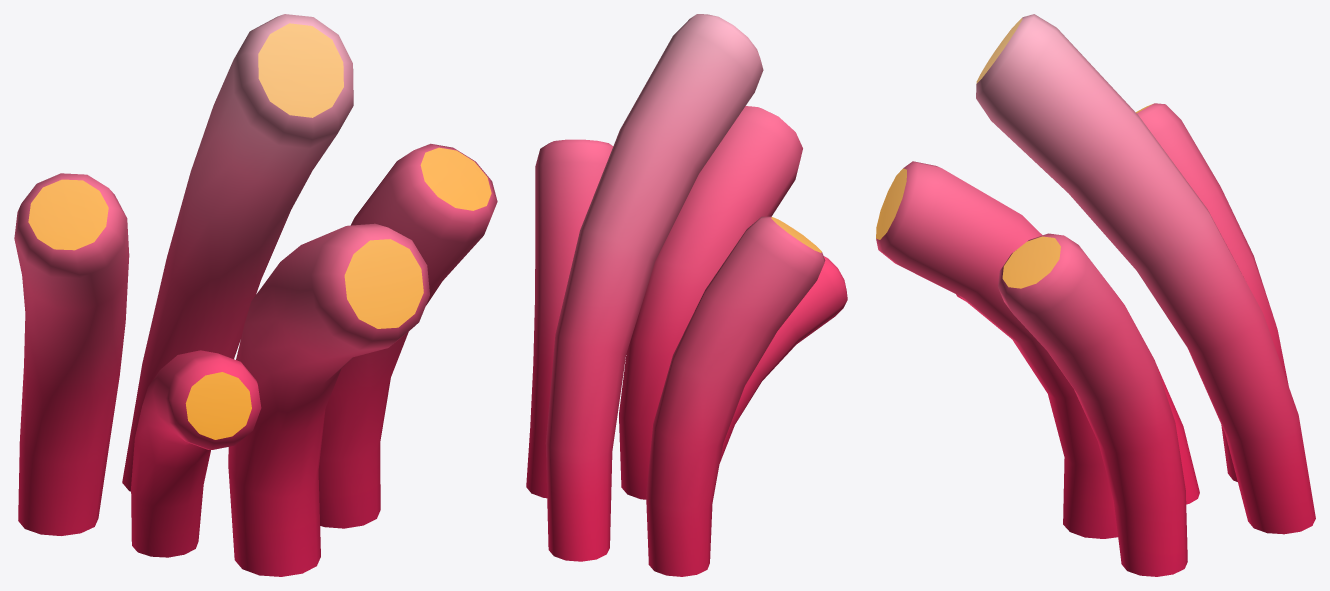
File: capsule_contents_006.glb
3 renders of one model, left to right at view 1: azimuth 30°, elevation 25°; view 2: azimuth 150°, elevation 25°; view 3: azimuth 270°, elevation 25°, orthographic. The views are drawn at different scales.
Visible parts, largest first — view 1: Сapsule_contents_006; view 2: Сapsule_contents_006; view 3: Сapsule_contents_006.
Part boxes in pixels (bbox=[...]): Сapsule_contents_006: bbox=[14, 14, 497, 576]; Сapsule_contents_006: bbox=[526, 14, 847, 576]; Сapsule_contents_006: bbox=[876, 14, 1315, 576].
Bounding box in the file's own units: 0.6893 × 0.9311 × 0.7529.
2 materials, 2 textured.
